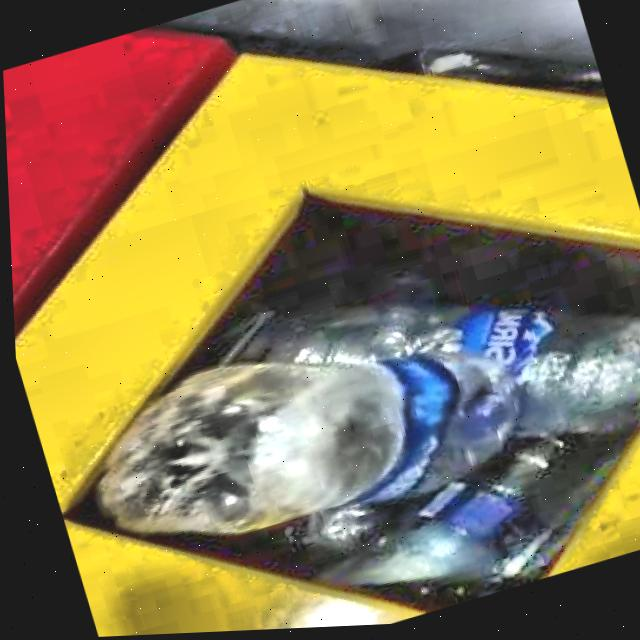plastic: (89, 353, 516, 537)
